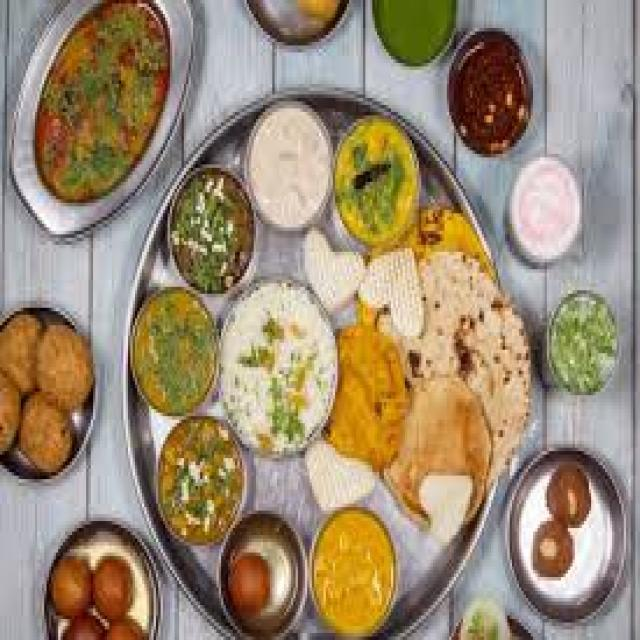dal: (339, 118, 420, 243)
papad: (359, 242, 426, 332)
rice: (218, 277, 341, 462)
roti: (407, 264, 543, 484)
sambar-rasam: (454, 34, 529, 146)
sweet: (211, 525, 302, 627)
veg: (24, 6, 182, 208)
